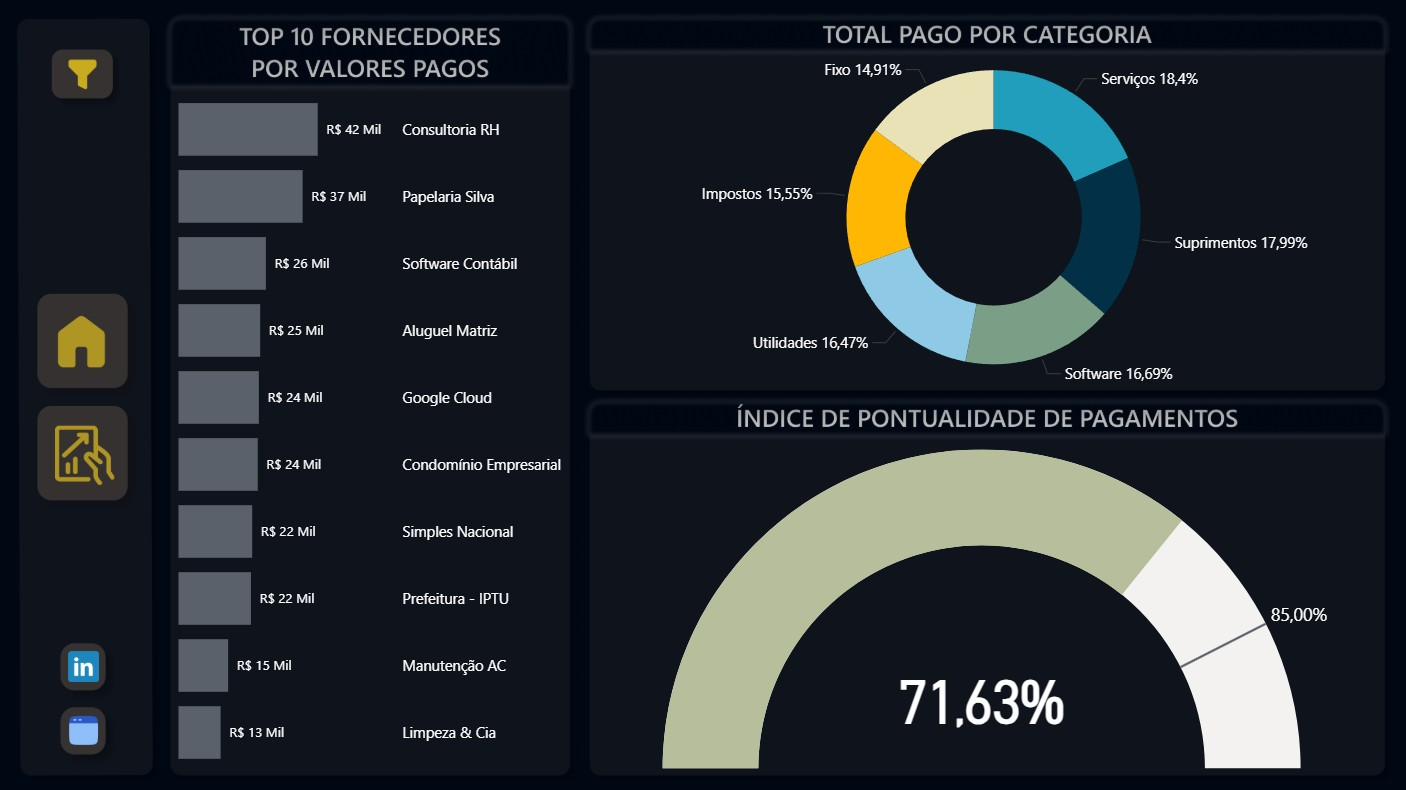

This screenshot's page, from the dashboard's own definition file:
{"tool":"powerbi","page":{"name":"Performance","canvas":[1280,720],"ordinal":2},"visuals":[{"type":"barChart","title":"TOP 10 FORNECEDORES POR PAGAMENTOS","fields":{"Category":["dFornecedores.FORNECEDOR"],"Y":["Medidas.Pago_Total"]},"box":[157.5,56.2,368.8,663.8],"z":0},{"type":"gauge","title":"ÍNDICE DE PONTUALIDADE DE PAGAMENTOS","fields":{"Y":["Medidas.Qtd_no_prazo"]},"box":[526.2,403.8,753.8,300],"z":1000},{"type":"donutChart","title":"TOTAL PAGO POR CATEGORIA","fields":{"Category":["dCategoria.CATEGORIA"],"Y":["Medidas.Pago_Total"]},"box":[526.2,20,753.8,355],"z":2000},{"type":"actionButton","box":[31.8,265.8,86.8,85.8],"z":3000},{"type":"actionButton","box":[31.9,369.4,86.9,85.6],"z":4000},{"type":"actionButton","box":[53.1,584.4,43.1,45],"z":5000},{"type":"actionButton","box":[188,664,145,21],"z":6000},{"type":"actionButton","box":[53.1,641.9,43.1,45],"z":7000},{"type":"actionButton","box":[44.8,44.5,56.2,45],"z":8000}]}

Visuals, with their boxes in screenshot pixels (x1, y1, x2, y2), scaled from the page's 1280x720 canvas onto the 1406x790 screenshot:
"TOP 10 FORNECEDORES POR PAGAMENTOS" barChart: x1=173, y1=62, x2=578, y2=789
"ÍNDICE DE PONTUALIDADE DE PAGAMENTOS" gauge: x1=578, y1=443, x2=1405, y2=772
"TOTAL PAGO POR CATEGORIA" donutChart: x1=578, y1=22, x2=1405, y2=411
actionButton: x1=35, y1=292, x2=130, y2=386
actionButton: x1=35, y1=405, x2=130, y2=499
actionButton: x1=58, y1=641, x2=106, y2=691
actionButton: x1=207, y1=729, x2=366, y2=752
actionButton: x1=58, y1=704, x2=106, y2=754
actionButton: x1=49, y1=49, x2=111, y2=98
